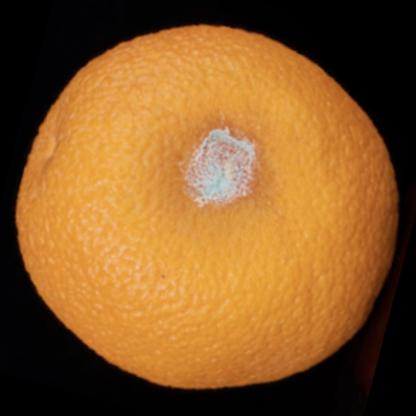rotten: (15, 24, 399, 387)
